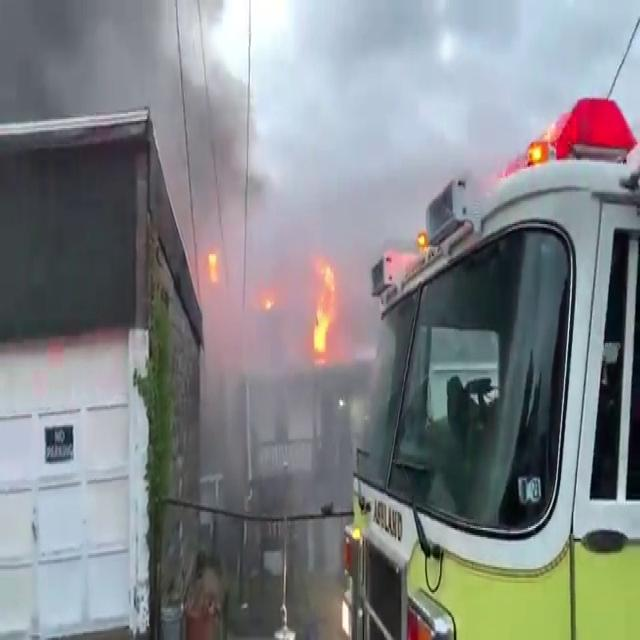Fire: (309, 256, 340, 363)
Smoke: (178, 5, 444, 366), (0, 0, 238, 217)
